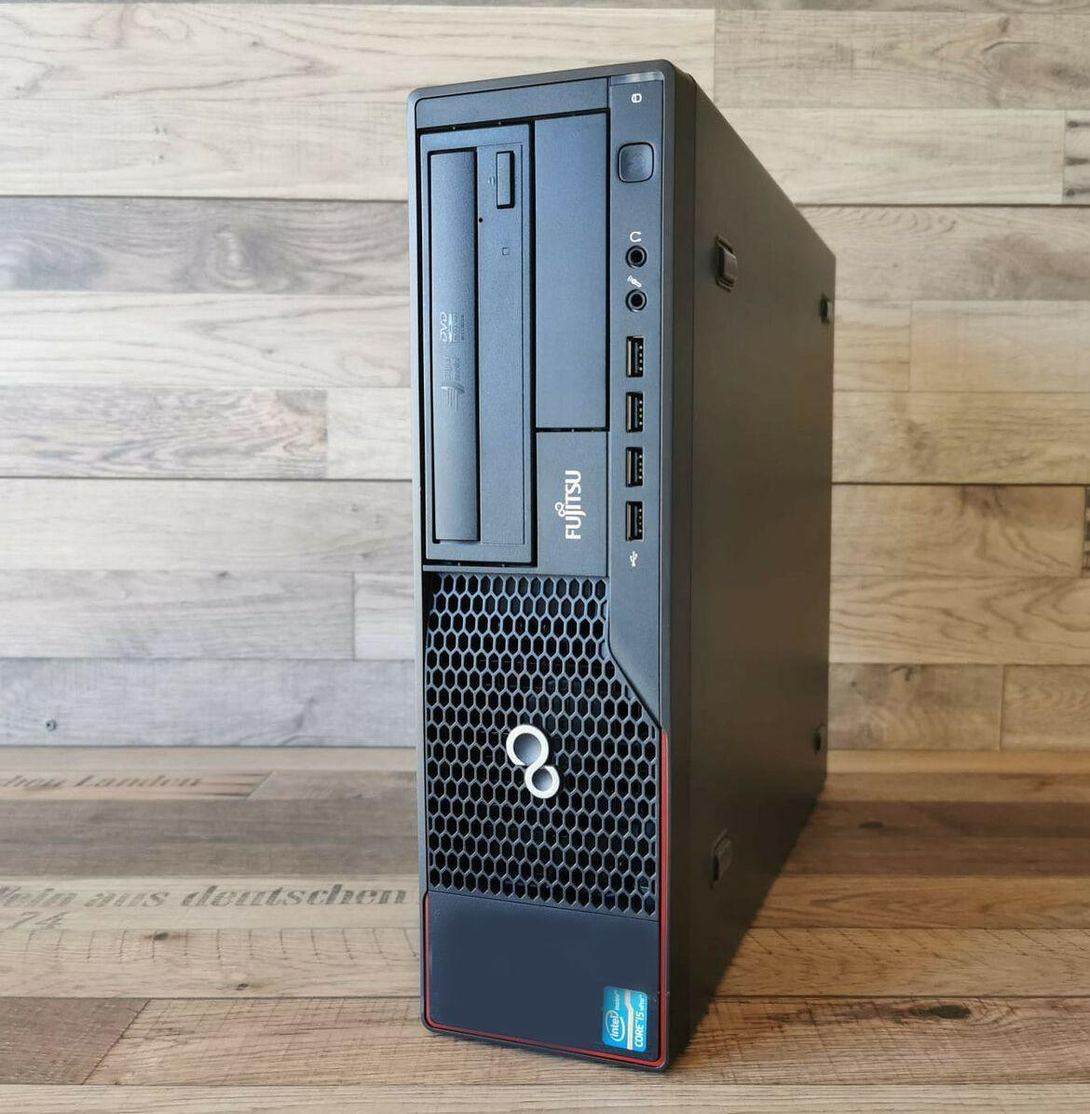DESKTOP PC: (412, 67, 828, 1052)
